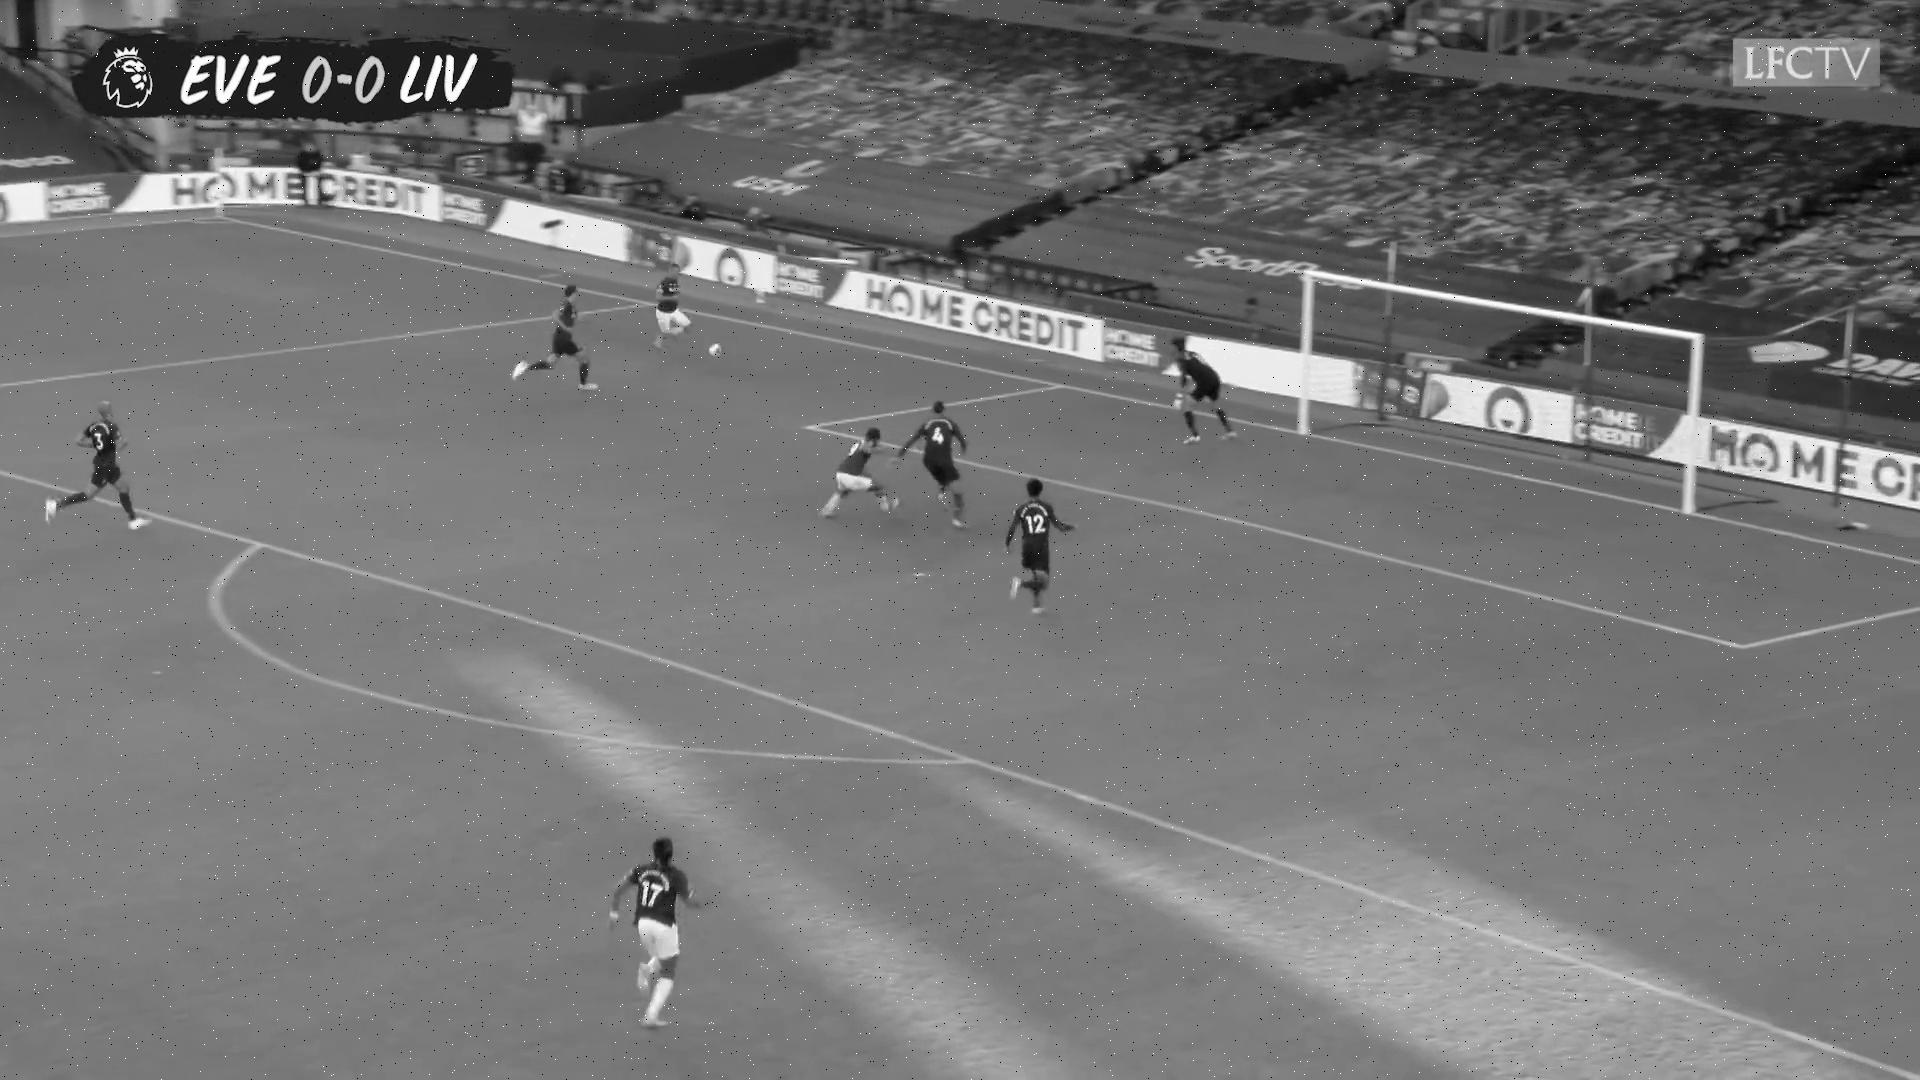ball: (706, 341, 724, 358)
